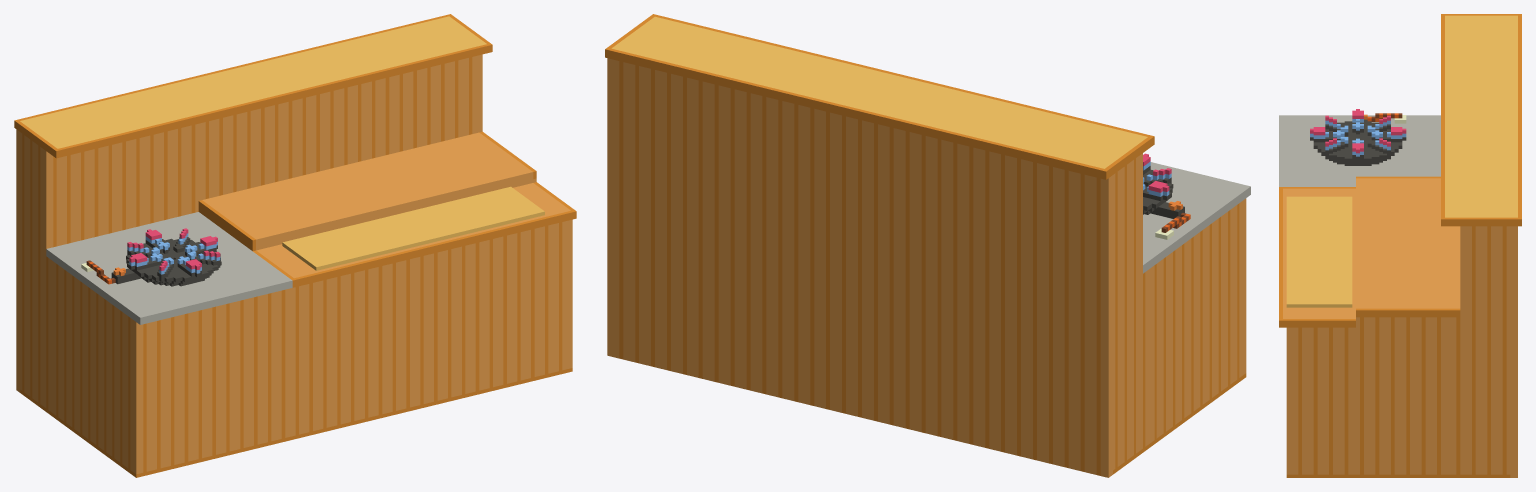
File: kitchen.ver2.fbx
3 views of the same model, side by side, from view 1: azimuth 30°, elevation 25°; view 2: azimuth 150°, elevation 25°; view 3: azimuth 270°, elevation 25° (orthographic). The views are drawn at different scales.
Parts seen in each view (by area): view 1: ObjObject.002; view 2: ObjObject.002; view 3: ObjObject.002.
Boxes of the visible parts, x1,y1,x2,y2 form: ObjObject.002: (14, 14, 576, 477); ObjObject.002: (605, 14, 1250, 477); ObjObject.002: (1279, 14, 1521, 477).
Size of the model in its own units: 1260 by 740 by 630.
1 material, 1 textured.
